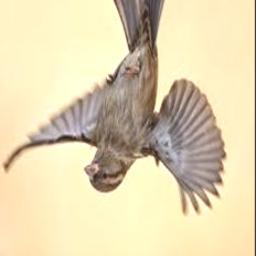Sparrow: (3, 0, 225, 216)
